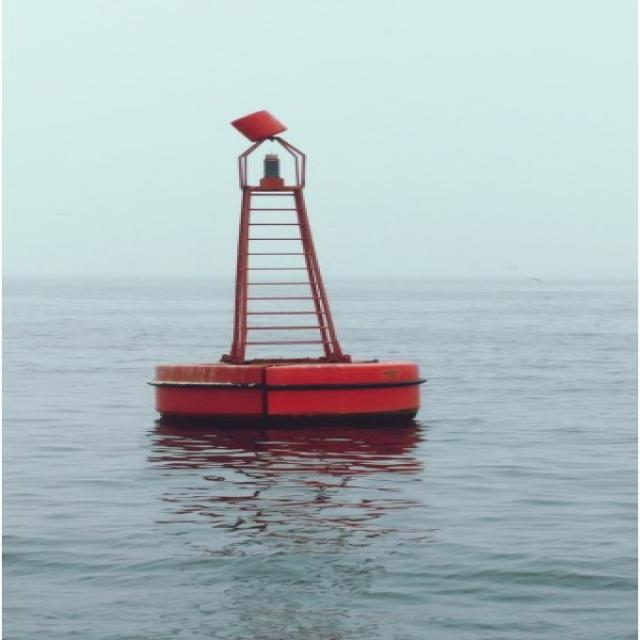buoy: (102, 95, 444, 460)
